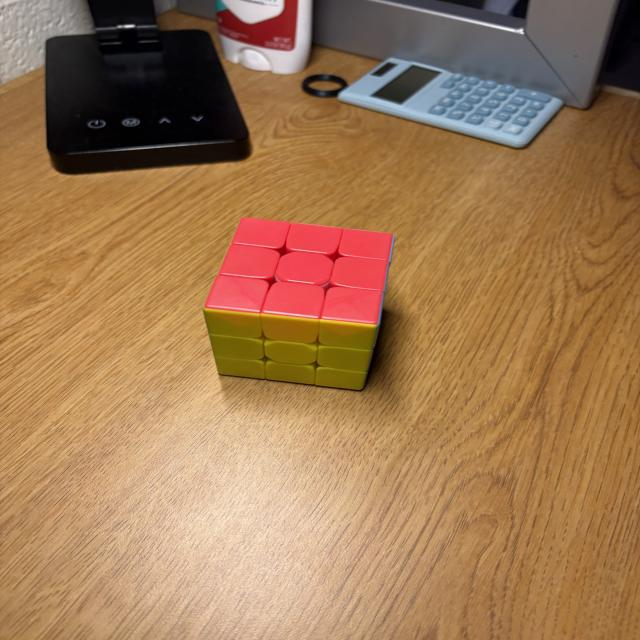Rubiks Cube: (204, 216, 393, 393)
